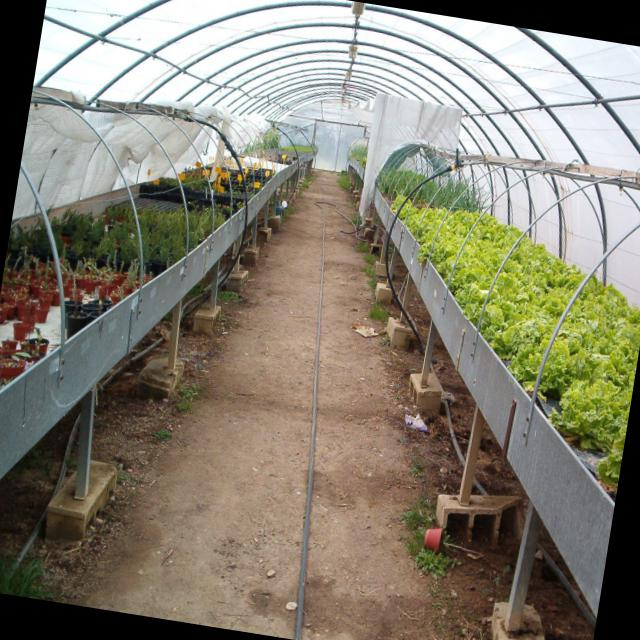greenhouse: (0, 0, 640, 640)
plant pot occlued: (12, 322, 30, 341), (34, 306, 50, 322)
plants: (380, 169, 640, 494), (32, 202, 226, 266)
trays occluded: (368, 186, 640, 630), (0, 141, 321, 500), (345, 147, 369, 177)
